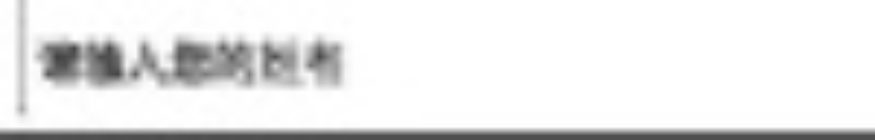EditText: (1, 1, 874, 139)
